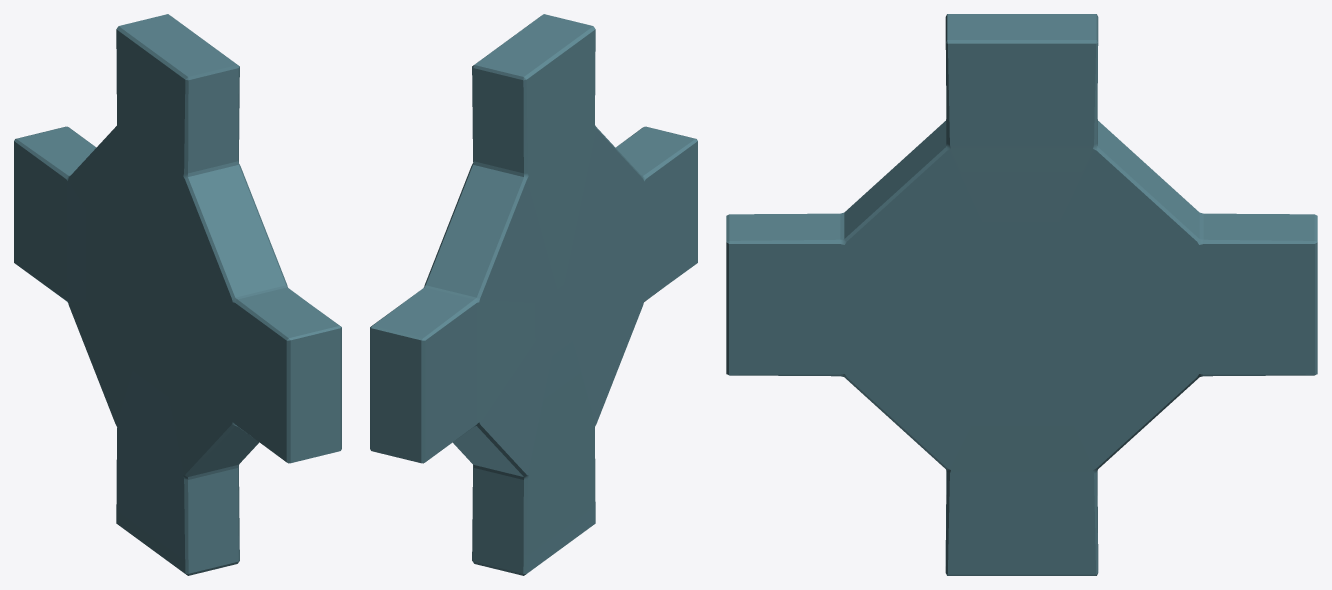
The model's file is Pipe_Diamond_01_Mod.fbx.
The picture shows the model from 3 angles, left to right: view 1: azimuth 30°, elevation 25°; view 2: azimuth 150°, elevation 25°; view 3: azimuth 270°, elevation 25°; orthographic projection. The views are drawn at different scales.
Visible parts, largest first — view 1: Pipe_Diamond_01_Mod; view 2: Pipe_Diamond_01_Mod; view 3: Pipe_Diamond_01_Mod.
Boxes of the visible parts, x1=… form: Pipe_Diamond_01_Mod: x1=14, y1=14, x2=341, y2=575; Pipe_Diamond_01_Mod: x1=370, y1=14, x2=697, y2=575; Pipe_Diamond_01_Mod: x1=726, y1=14, x2=1317, y2=575.
Size of the model in its own units: 0.9889 by 8.5 by 8.5.
